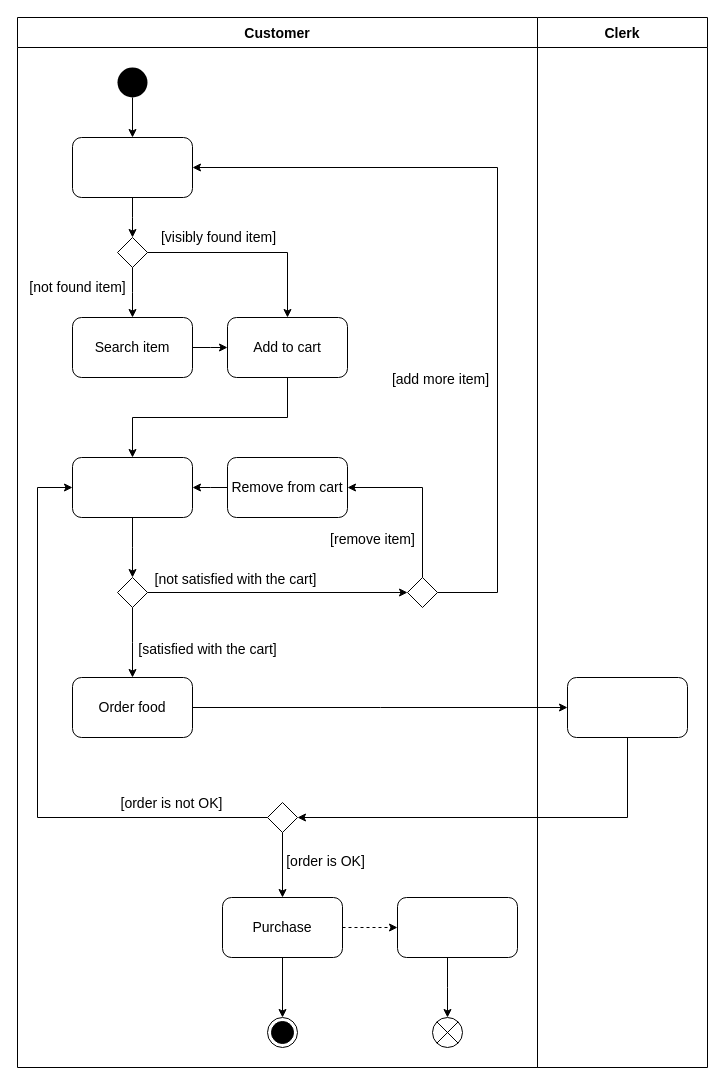
This 725x1085 diagram has some shape labels left out. Here are the shapes that lost their labels. From the top down, the centre of each, then its label:
At pixel 132 167: "View menu".
At pixel 132 487: "View cart".
At pixel 627 707: "Confirm order".
At pixel 457 927: "Feedback".
